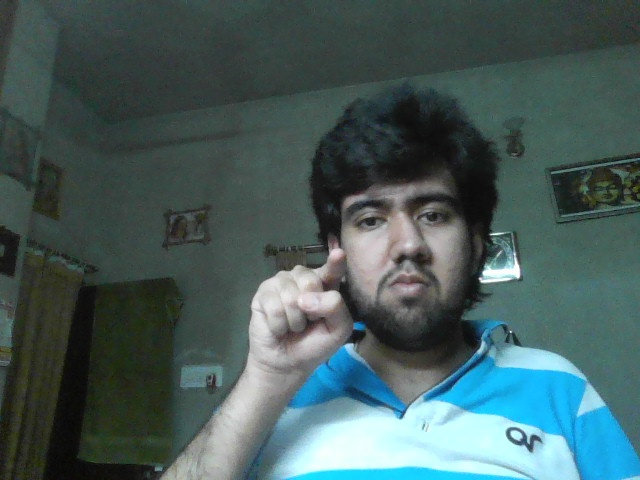You: (248, 248, 354, 363)
